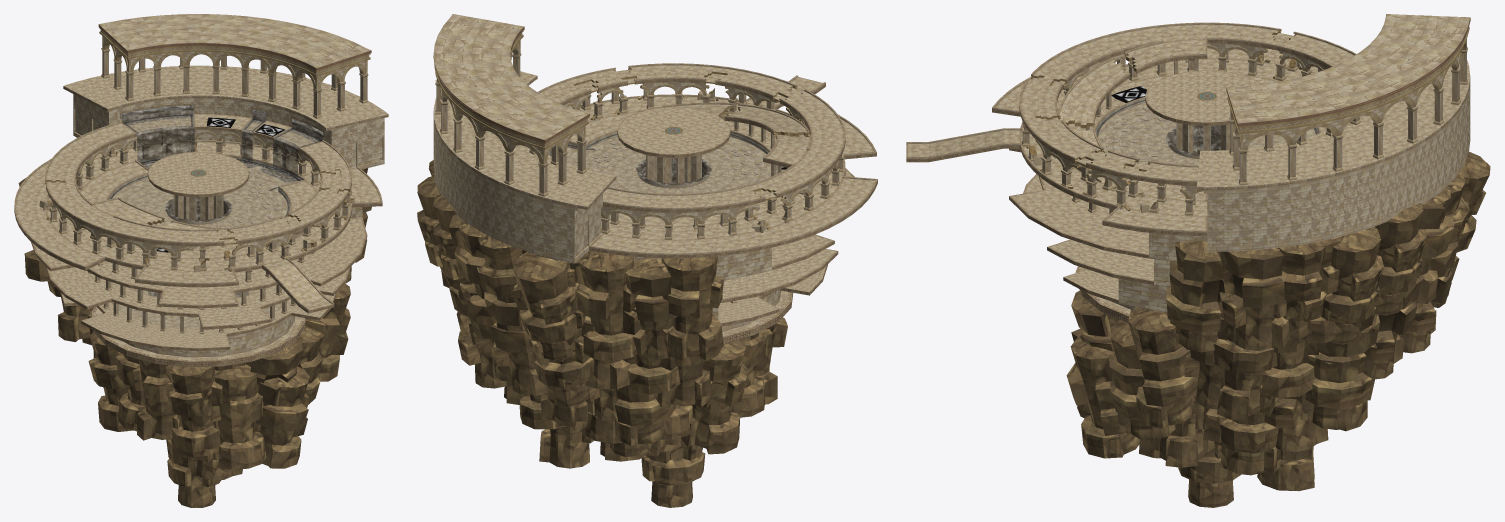
The model's file is SkyPavMap.obj.
3 views of the same model, side by side, from view 1: azimuth 30°, elevation 25°; view 2: azimuth 150°, elevation 25°; view 3: azimuth 270°, elevation 25° (orthographic). The views are drawn at different scales.
Parts seen in each view (by area): view 1: polygon82, polygon5, polygon65, polygon80, polygon68, polygon85, polygon158, polygon435, polygon76, polygon433, polygon88, polygon432 (+5 smaller); view 2: polygon5, polygon82, polygon65, polygon68, polygon80, polygon85, polygon158, polygon76, polygon433, polygon81, polygon86, polygon88 (+1 smaller); view 3: polygon5, polygon82, polygon65, polygon68, polygon80, polygon158, polygon76, polygon85, polygon433, polygon81, polygon435.
Part boxes in pixels (bbox=[...]): polygon82: bbox=[16, 14, 388, 359]; polygon5: bbox=[18, 168, 371, 507]; polygon65: bbox=[14, 48, 388, 367]; polygon80: bbox=[47, 114, 350, 270]; polygon68: bbox=[44, 37, 384, 353]; polygon85: bbox=[111, 106, 322, 328]; polygon158: bbox=[51, 24, 371, 316]; polygon435: bbox=[121, 105, 323, 221]; polygon76: bbox=[149, 143, 320, 194]; polygon433: bbox=[114, 106, 322, 328]; polygon88: bbox=[45, 114, 356, 310]; polygon432: bbox=[123, 114, 320, 297]; polygon5: bbox=[417, 160, 787, 507]; polygon82: bbox=[433, 14, 874, 334]; polygon65: bbox=[433, 53, 877, 343]; polygon68: bbox=[433, 42, 837, 327]; polygon80: bbox=[539, 65, 843, 239]; polygon85: bbox=[549, 136, 776, 193]; polygon158: bbox=[433, 27, 841, 224]; polygon76: bbox=[618, 107, 729, 154]; polygon433: bbox=[550, 135, 775, 193]; polygon81: bbox=[571, 65, 809, 230]; polygon86: bbox=[575, 141, 767, 188]; polygon88: bbox=[581, 77, 843, 245]; polygon5: bbox=[1066, 151, 1490, 507]; polygon82: bbox=[908, 14, 1470, 313]; polygon65: bbox=[906, 22, 1470, 322]; polygon68: bbox=[1028, 43, 1470, 312]; polygon80: bbox=[1021, 24, 1354, 215]; polygon158: bbox=[1024, 14, 1470, 199]; polygon76: bbox=[1146, 70, 1260, 215]; polygon85: bbox=[1096, 103, 1317, 165]; polygon433: bbox=[1097, 101, 1318, 164]; polygon81: bbox=[1026, 29, 1302, 210]; polygon435: bbox=[1166, 125, 1220, 155].
Bounding box in the file's own units: 651 × 723 × 777.
